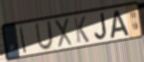A: (109, 9, 130, 40)
I: (19, 26, 28, 54)
J: (93, 12, 108, 42)
K: (73, 15, 91, 45)
U: (34, 19, 54, 51)
X: (53, 17, 74, 49)
